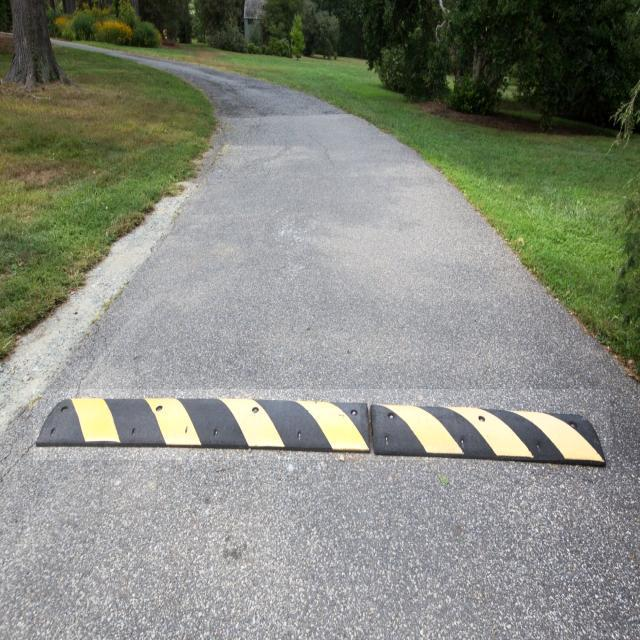Marked Bump: (39, 378, 614, 478)
